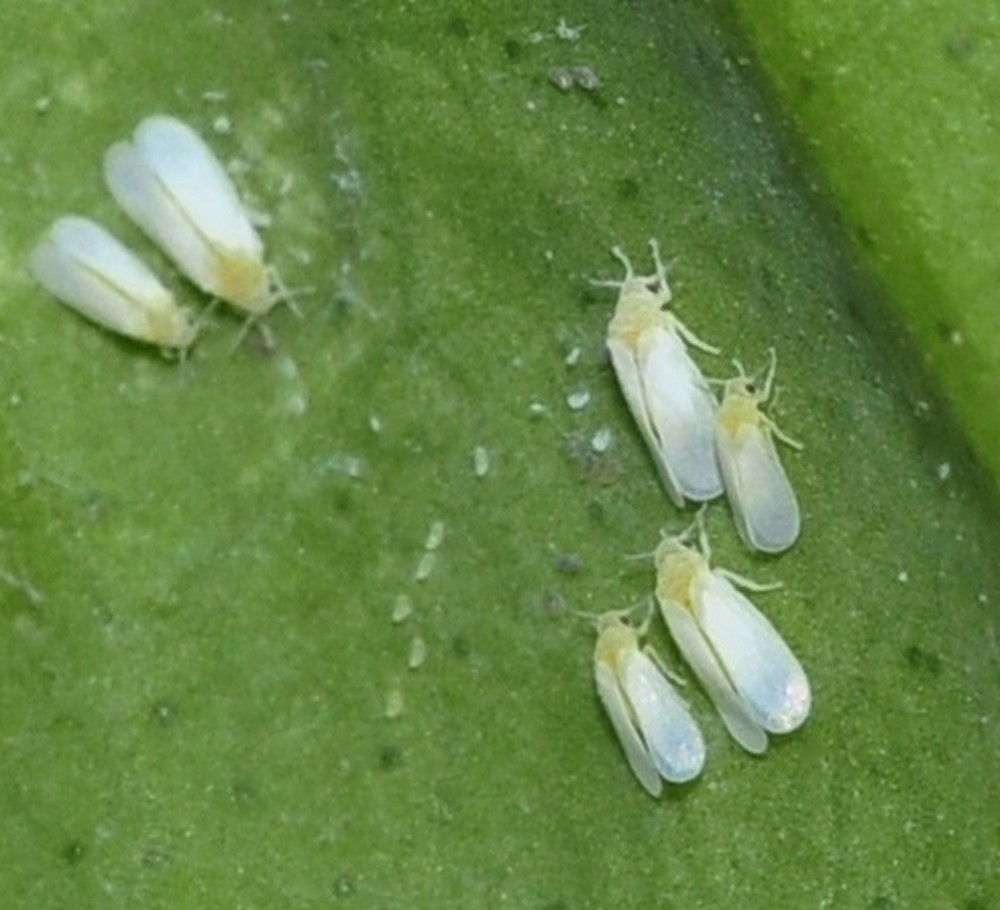Mosca Blanca: (96, 102, 327, 353), (641, 522, 840, 757), (592, 237, 734, 536), (24, 207, 207, 388), (569, 589, 714, 803), (702, 351, 826, 565)
